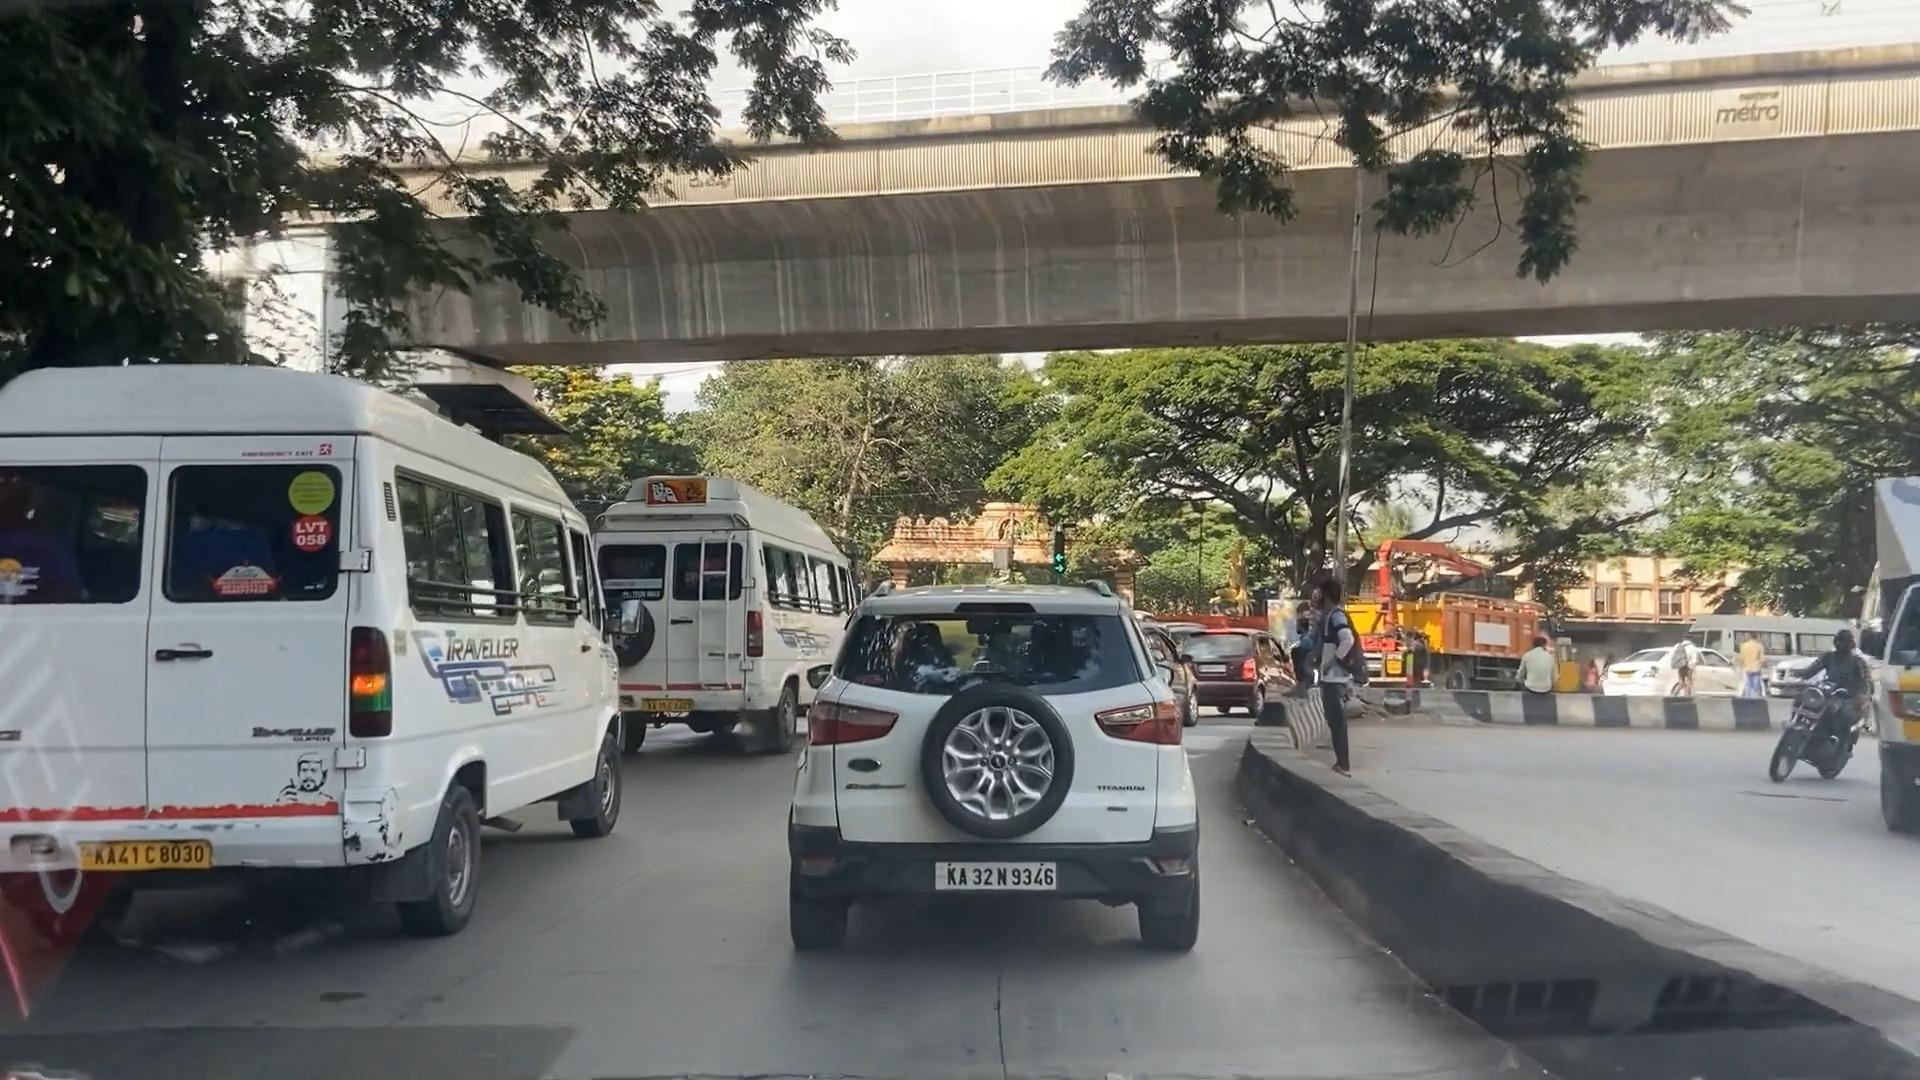HMV: (0, 398, 609, 906), (646, 471, 822, 740)
LMV: (800, 622, 1199, 972)
RoadDamages: (66, 973, 583, 1080)
